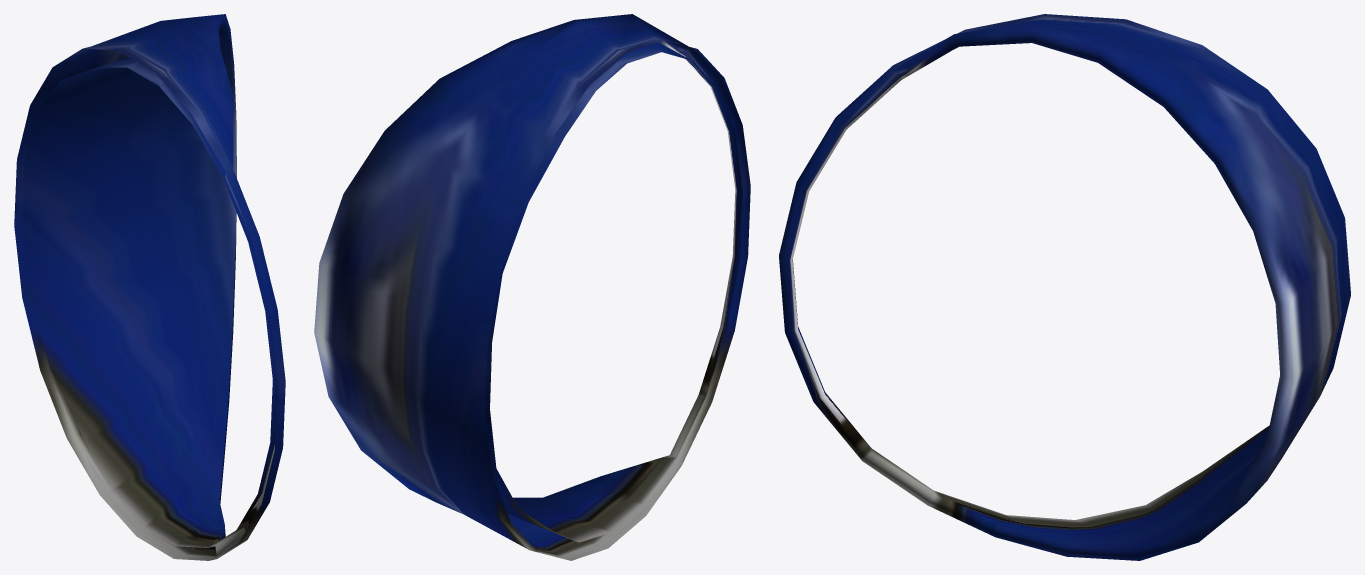
Rendered from epauleBiceps.obj.
The picture shows the model from 3 angles, left to right: view 1: azimuth 30°, elevation 25°; view 2: azimuth 150°, elevation 25°; view 3: azimuth 270°, elevation 25°; orthographic projection. The views are drawn at different scales.
Parts seen in each view (by area): view 1: EpauleBiceps_Chest.000; view 2: EpauleBiceps_Chest.000; view 3: EpauleBiceps_Chest.000.
Boxes of the visible parts, x1,y1,x2,y2 form: EpauleBiceps_Chest.000: (14, 14, 285, 560); EpauleBiceps_Chest.000: (314, 14, 750, 560); EpauleBiceps_Chest.000: (779, 14, 1350, 560).
Bounding box in the file's own units: 0.2837 × 0.6789 × 0.6598.
